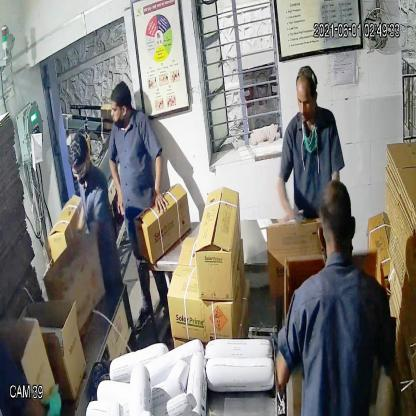goggles: (68, 161, 91, 183)
no_goggles: (294, 88, 321, 113)
